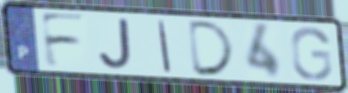4: (243, 20, 285, 83)
D: (186, 19, 238, 78)
F: (38, 11, 88, 71)
G: (288, 26, 334, 83)
I: (156, 18, 173, 74)
J: (97, 17, 134, 71)
